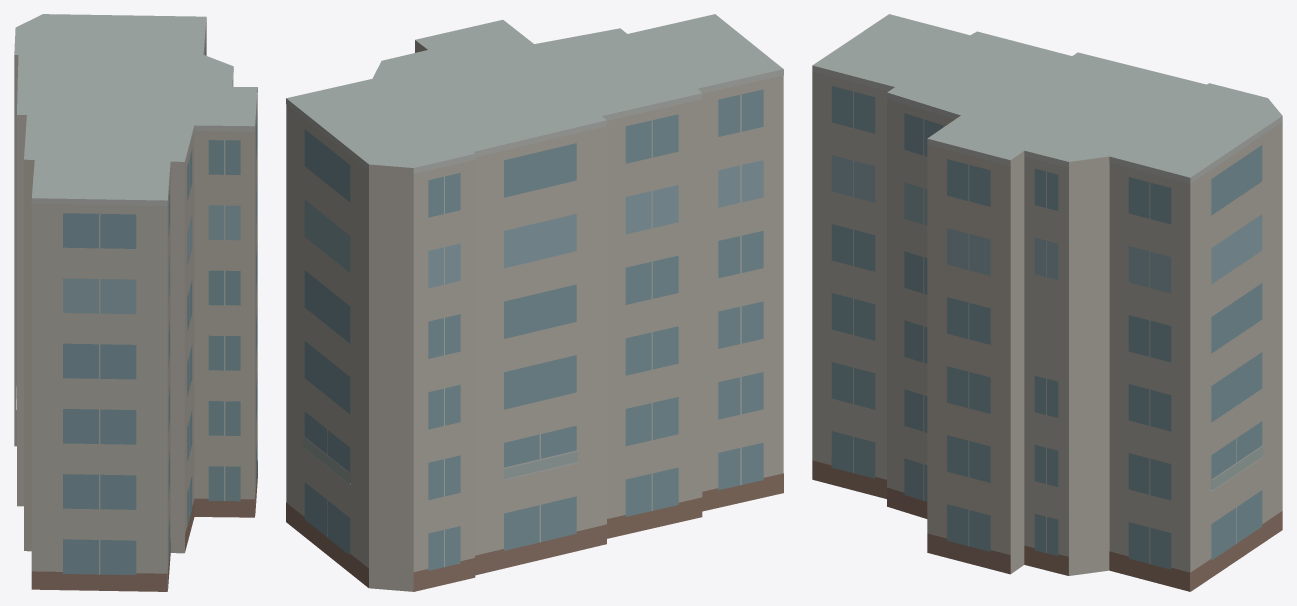
File: survey-upis-32610310.glb
3 renders of one model, left to right at view 1: azimuth 30°, elevation 25°; view 2: azimuth 150°, elevation 25°; view 3: azimuth 270°, elevation 25°, orthographic. The views are drawn at different scales.
Parts seen in each view (by area): view 1: survey-upis-32610310.tmp; view 2: survey-upis-32610310.tmp; view 3: survey-upis-32610310.tmp.
Part boxes in pixels (x1,y1,x2,y2): survey-upis-32610310.tmp: [14, 14, 257, 591]; survey-upis-32610310.tmp: [286, 14, 783, 591]; survey-upis-32610310.tmp: [812, 14, 1282, 591].
Size of the model in its own units: 14.6 by 17.2 by 17.71.
